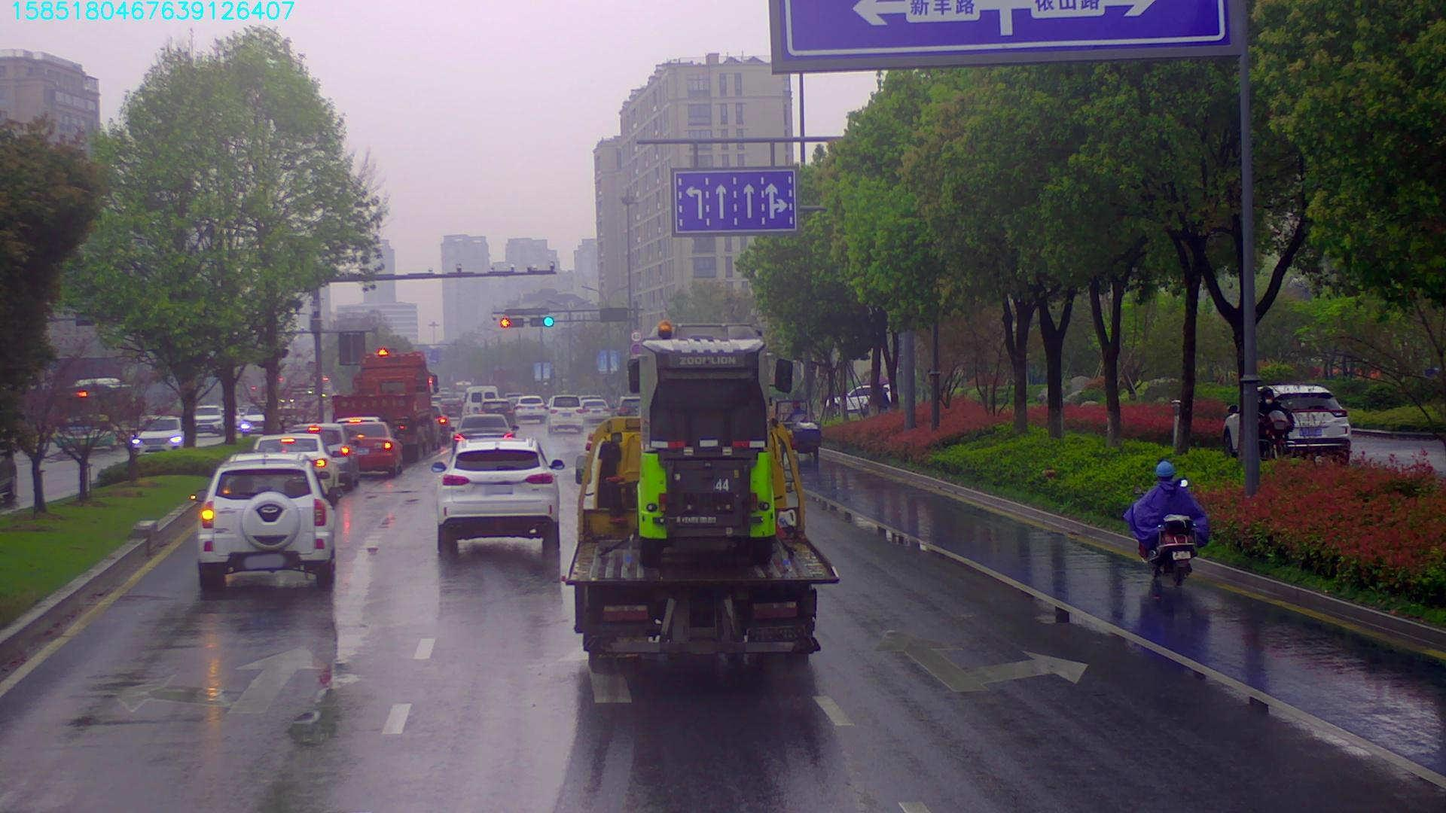green: (527, 315, 556, 330)
red: (498, 315, 523, 327)
